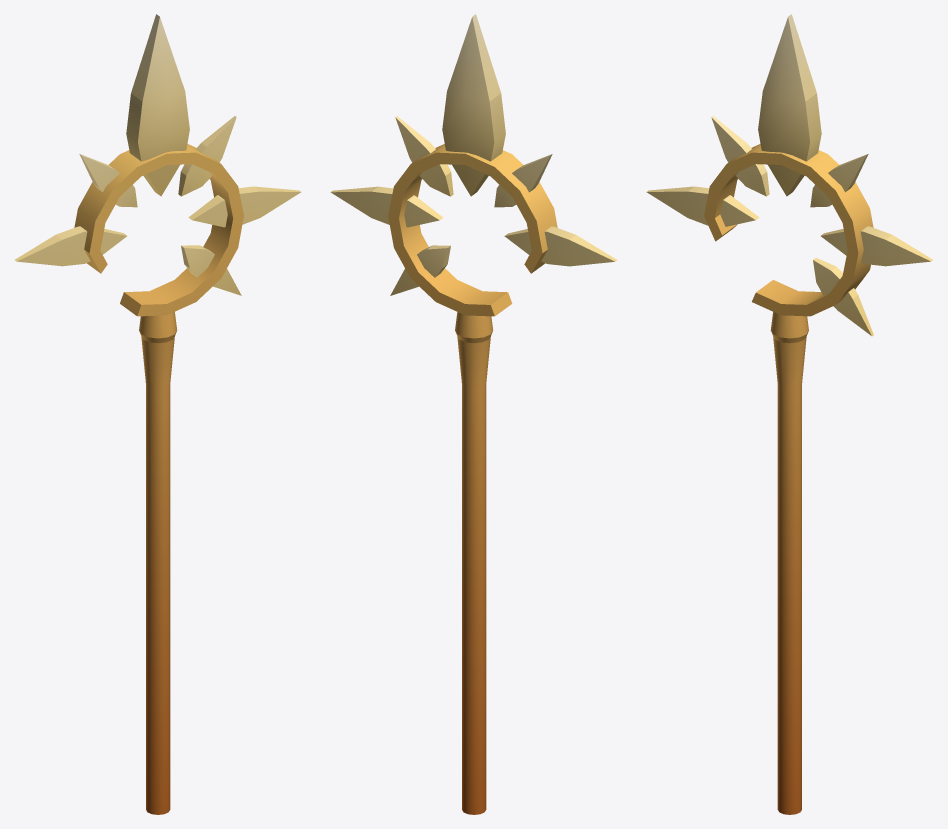
File: LightingStaff.fbx
3 renders of one model, left to right at view 1: azimuth 30°, elevation 25°; view 2: azimuth 150°, elevation 25°; view 3: azimuth 330°, elevation 25°, orthographic.
Visible parts, largest first — view 1: pCylinder3; view 2: pCylinder3; view 3: pCylinder3.
Part boxes in pixels (x1,y1,x2,y2): pCylinder3: [15, 14, 301, 814]; pCylinder3: [330, 14, 617, 814]; pCylinder3: [646, 14, 932, 814].
Size of the model in its own units: 116 by 309 by 13.48.
